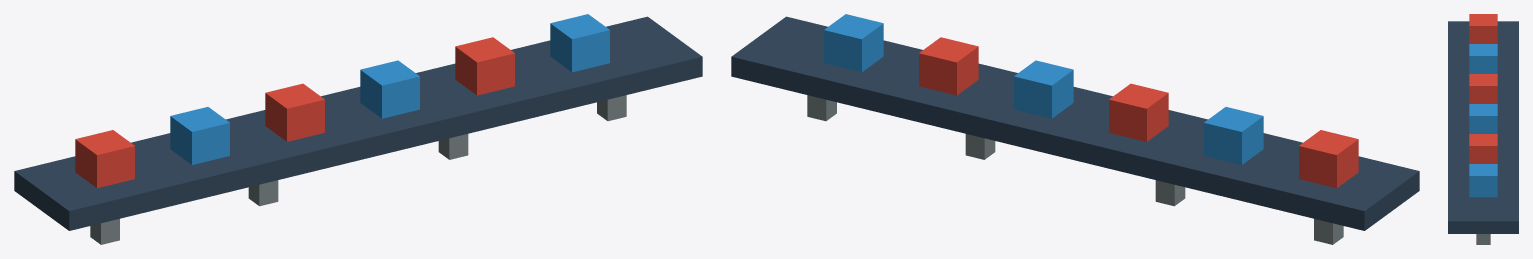
Rendered from assembly-line.glb.
3 views of the same model, side by side, from view 1: azimuth 30°, elevation 25°; view 2: azimuth 150°, elevation 25°; view 3: azimuth 270°, elevation 25° (orthographic). The views are drawn at different scales.
Visible parts, largest first — view 1: assembly-line, assemblyBox (×6); view 2: assembly-line, assemblyBox (×6); view 3: assembly-line, assemblyBox (×6).
Part boxes in pixels (box(x1,y1,x2,y2)): assembly-line: box(14, 16, 702, 244); assemblyBox (×6): box(75, 14, 609, 188); assembly-line: box(731, 16, 1419, 244); assemblyBox (×6): box(824, 14, 1358, 188); assembly-line: box(1448, 21, 1518, 244); assemblyBox (×6): box(1469, 14, 1497, 197).
Bounding box in the file's own units: 10 × 1.45 × 1.5.
